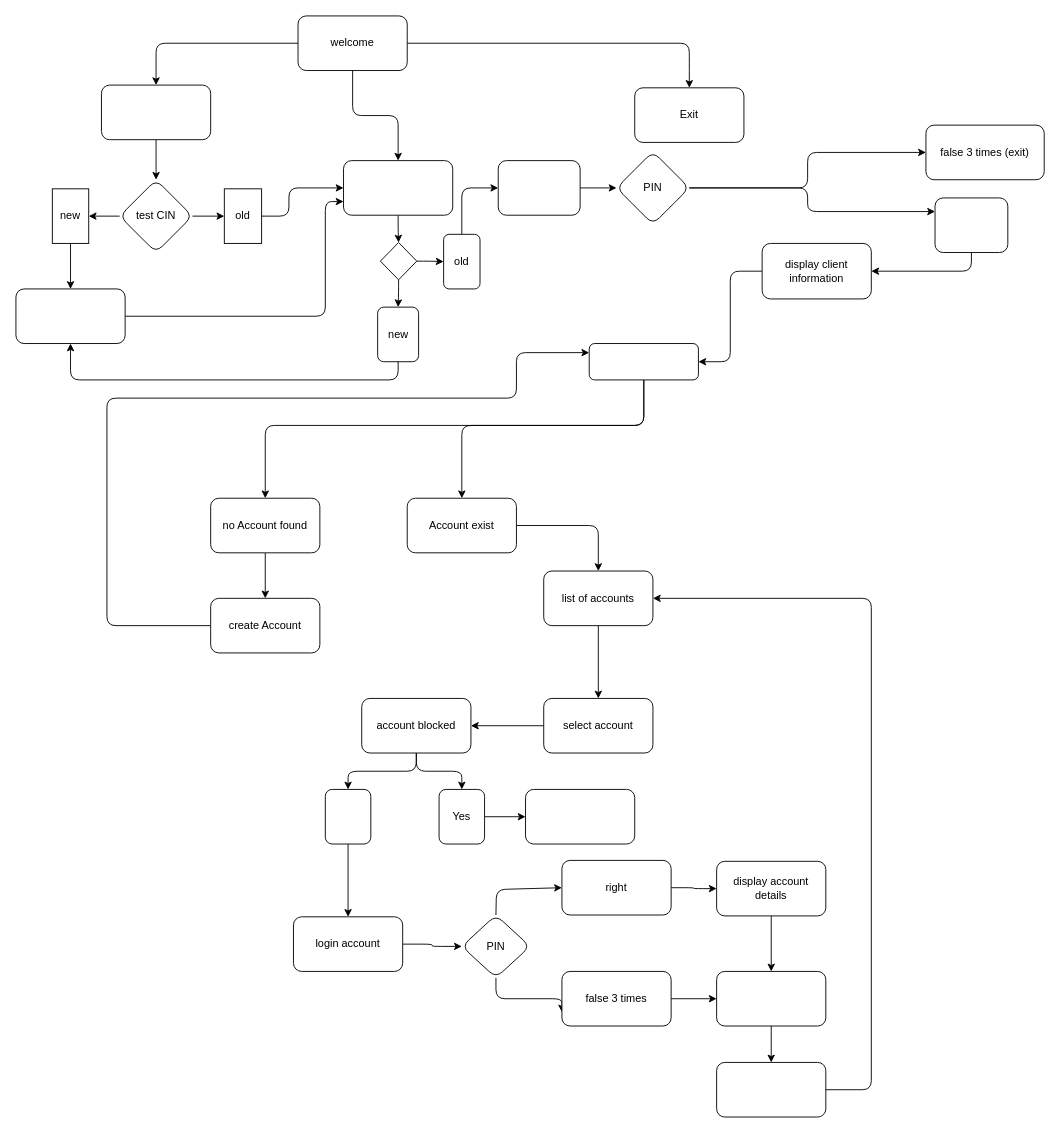
This 1060x1133 diagram has some shape labels left out. The shapes that lost their labels are listed below. From the top down, each one's centre as x and y in pixels, then its label:
At (156,112): "sign up".
At (398,187): "log in client".
At (538,187): "authenticate client".
At (971,225): "Correct".
At (398,261): "CIN".
At (70,316): "create client".
At (643,361): "log in Account".
At (347,816): "No".
At (580,816): "Message go to your Bank to unblock".
At (771,998): "BLock Account".
At (771,1089): "message block".
